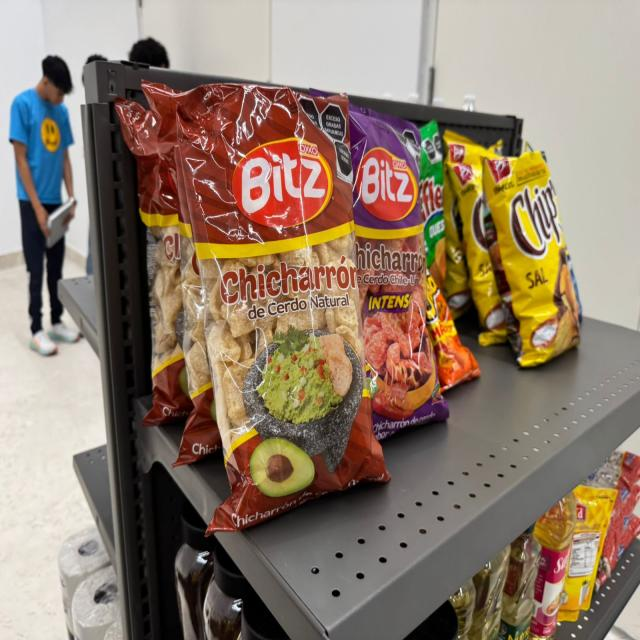CHEETOS TORCIDITOS 240GR: (415, 260, 486, 410)
Chicharron de Cerdo Natural Bitz 120 gr: (138, 76, 392, 545), (109, 70, 191, 420)
Papas Chips Barcel 170 gr bolsa con sal: (487, 137, 589, 369), (456, 150, 514, 346)
RUFFLES QUESO 185GR: (420, 98, 450, 309)
chicharrones de cerdo intenso: (346, 118, 454, 444)
